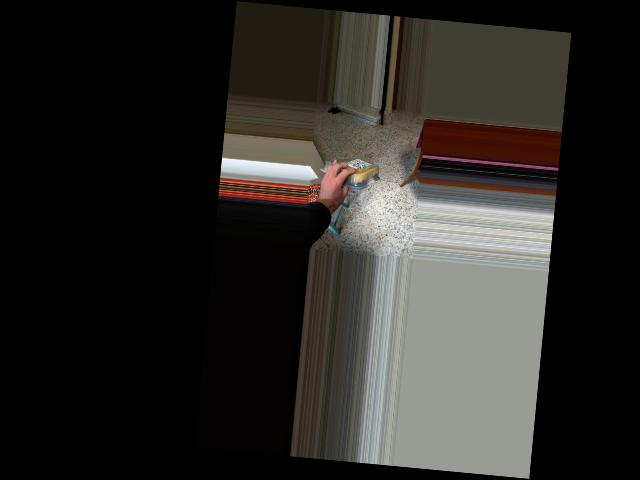cheese: (327, 156, 380, 186)
